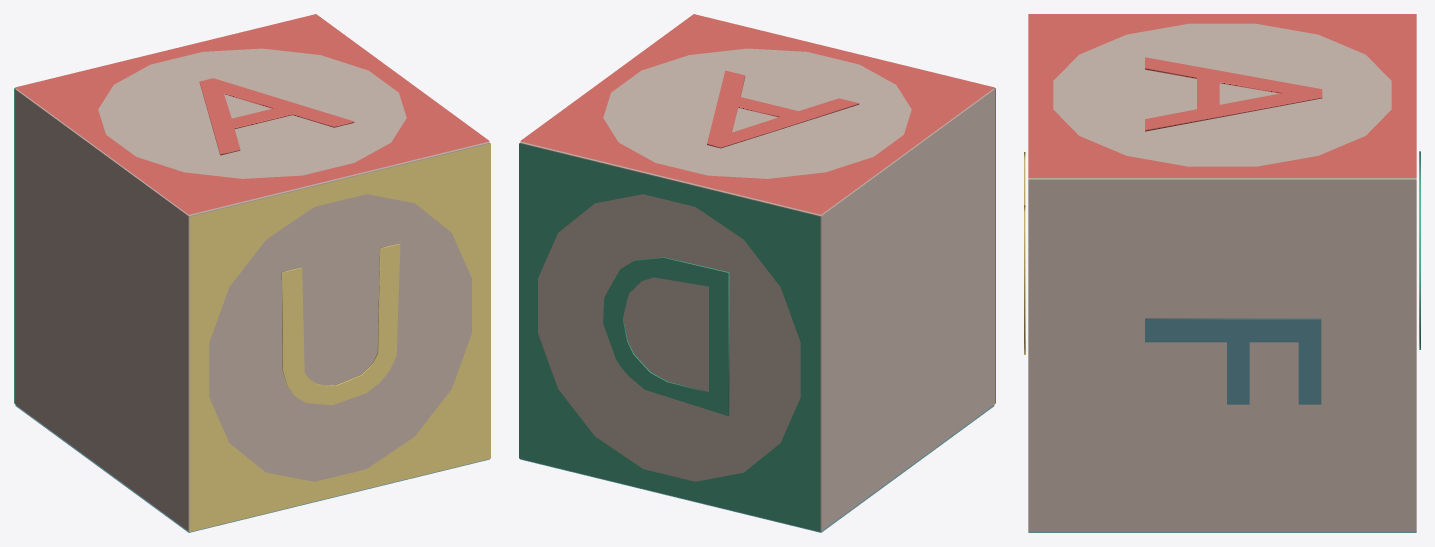
3 views of the same model, side by side, from view 1: azimuth 30°, elevation 25°; view 2: azimuth 150°, elevation 25°; view 3: azimuth 270°, elevation 25° (orthographic). The views are drawn at different scales.
Parts seen in each view (by area): view 1: cube; view 2: cube; view 3: cube.
Boxes of the visible parts, x1,y1,x2,y2 form: cube: (14, 14, 490, 532); cube: (519, 14, 995, 532); cube: (1024, 14, 1420, 532).
Bounding box in the file's own units: 0.0453 × 0.046 × 0.046.
